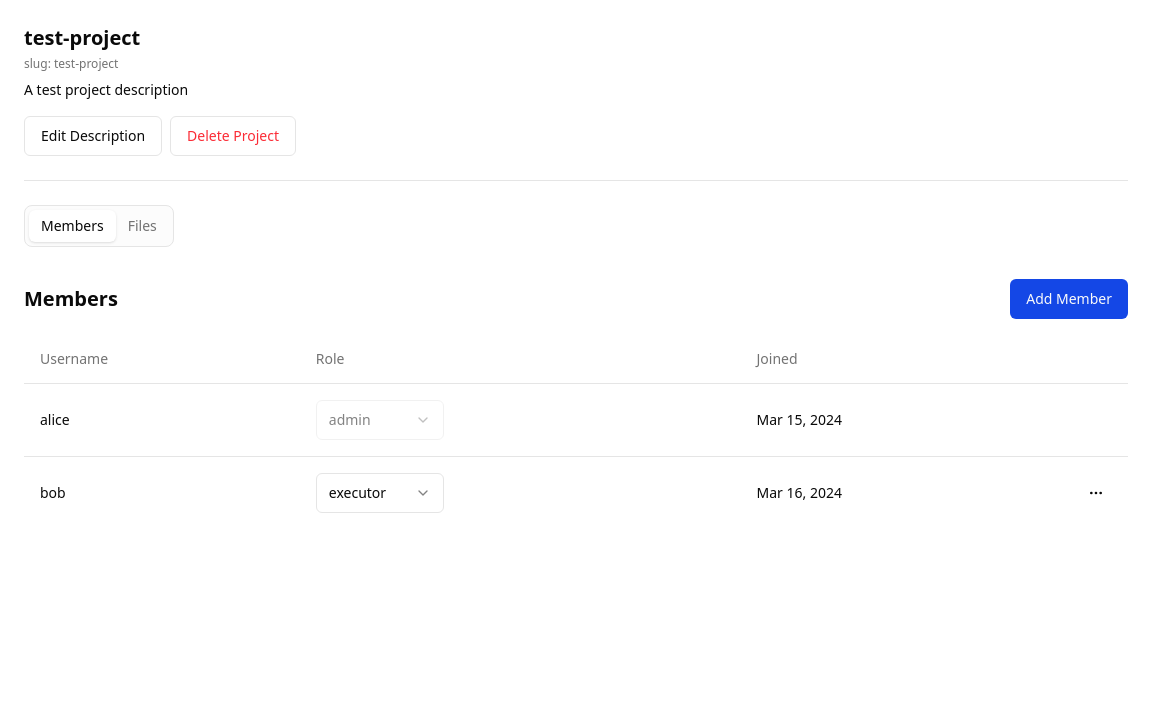
Test: ProjectDetailPage › renders managed files when Files tab is selected
What coordinates should you click on to do the following:
click the button "Files"
I would click on:
 (142, 226)
Its box is [116, 210, 169, 242].
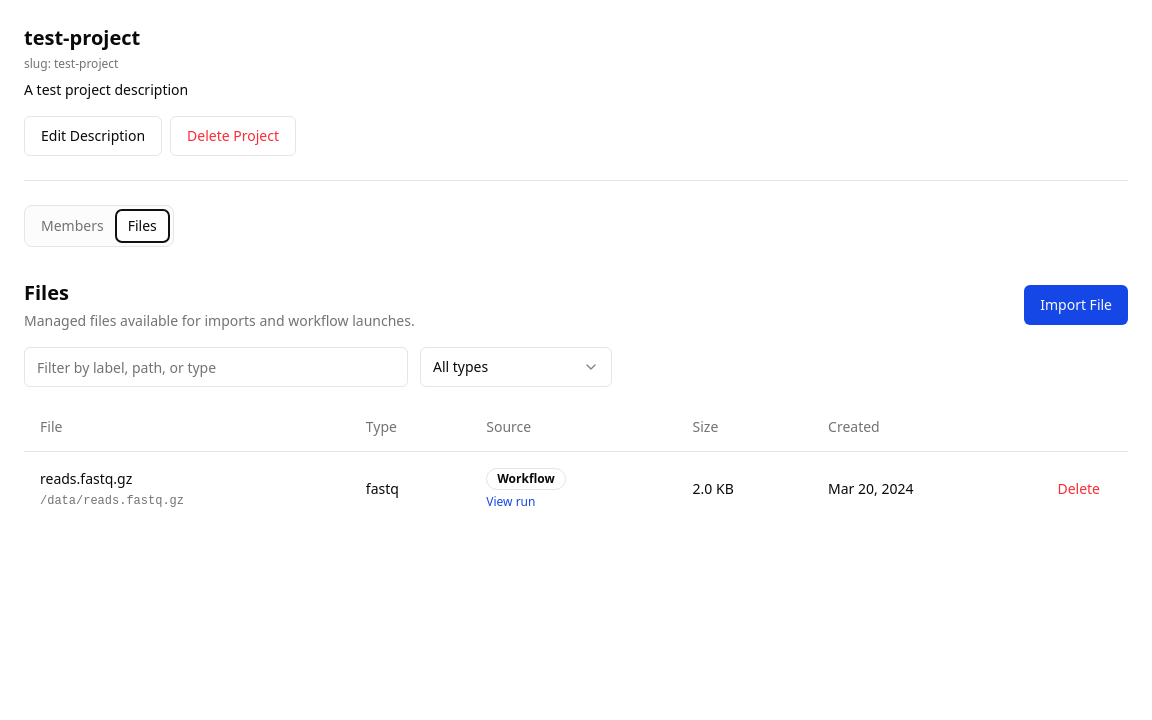
Result: the text "/data/reads.fastq.gz" is shown at [40, 494, 184, 508]
Result: the text "fastq" is shown at [350, 451, 470, 526]
Result: the text "2.0 KB" is shown at [677, 451, 812, 526]
